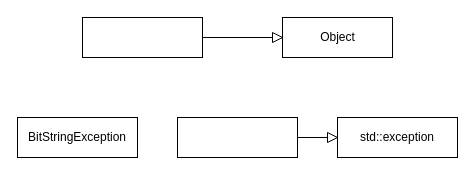
Image size: 475x175. Some labels were removed from this diagram. Here are the shapes that lost their labels. From the top down, the box of each, then its label:
(82, 16, 202, 58): BitString
(176, 116, 298, 158): Exception
